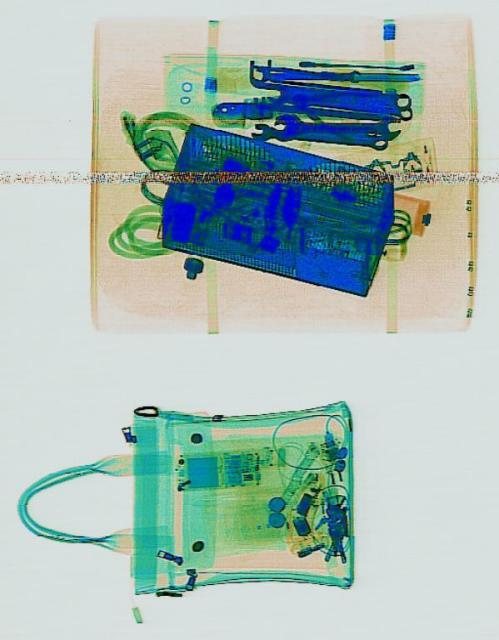Wrench: (247, 118, 386, 152), (264, 80, 410, 110), (275, 111, 399, 139), (254, 66, 359, 80)
